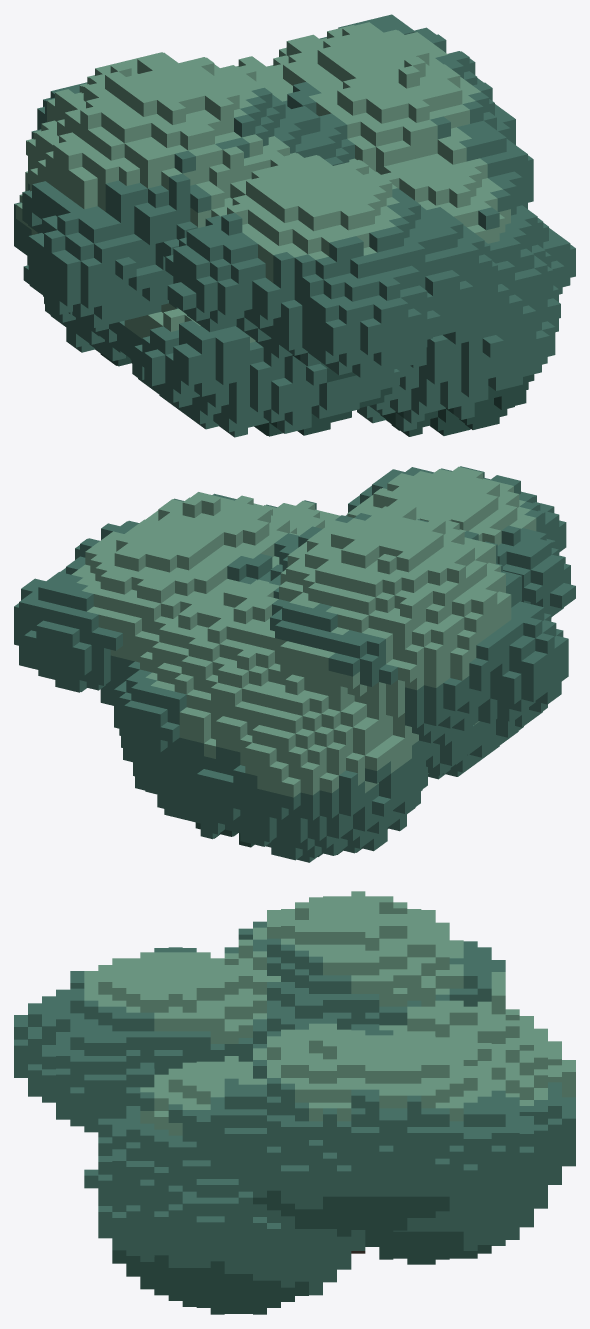
File: dense_bush_v2_near.glb
The picture shows the model from 3 angles, top to bottom: view 1: azimuth 30°, elevation 25°; view 2: azimuth 150°, elevation 25°; view 3: azimuth 270°, elevation 25°; orthographic projection. The views are drawn at different scales.
Visible parts, largest first — view 1: dense_bush_v2_near; view 2: dense_bush_v2_near; view 3: dense_bush_v2_near.
Boxes of the visible parts, bbox=[...] form: dense_bush_v2_near: bbox=[14, 14, 575, 437]; dense_bush_v2_near: bbox=[14, 466, 575, 862]; dense_bush_v2_near: bbox=[14, 891, 575, 1314].
Bounding box in the file's own units: 2.31 × 1.5 × 2.5.
Materials: 1 (1 with a texture image).
